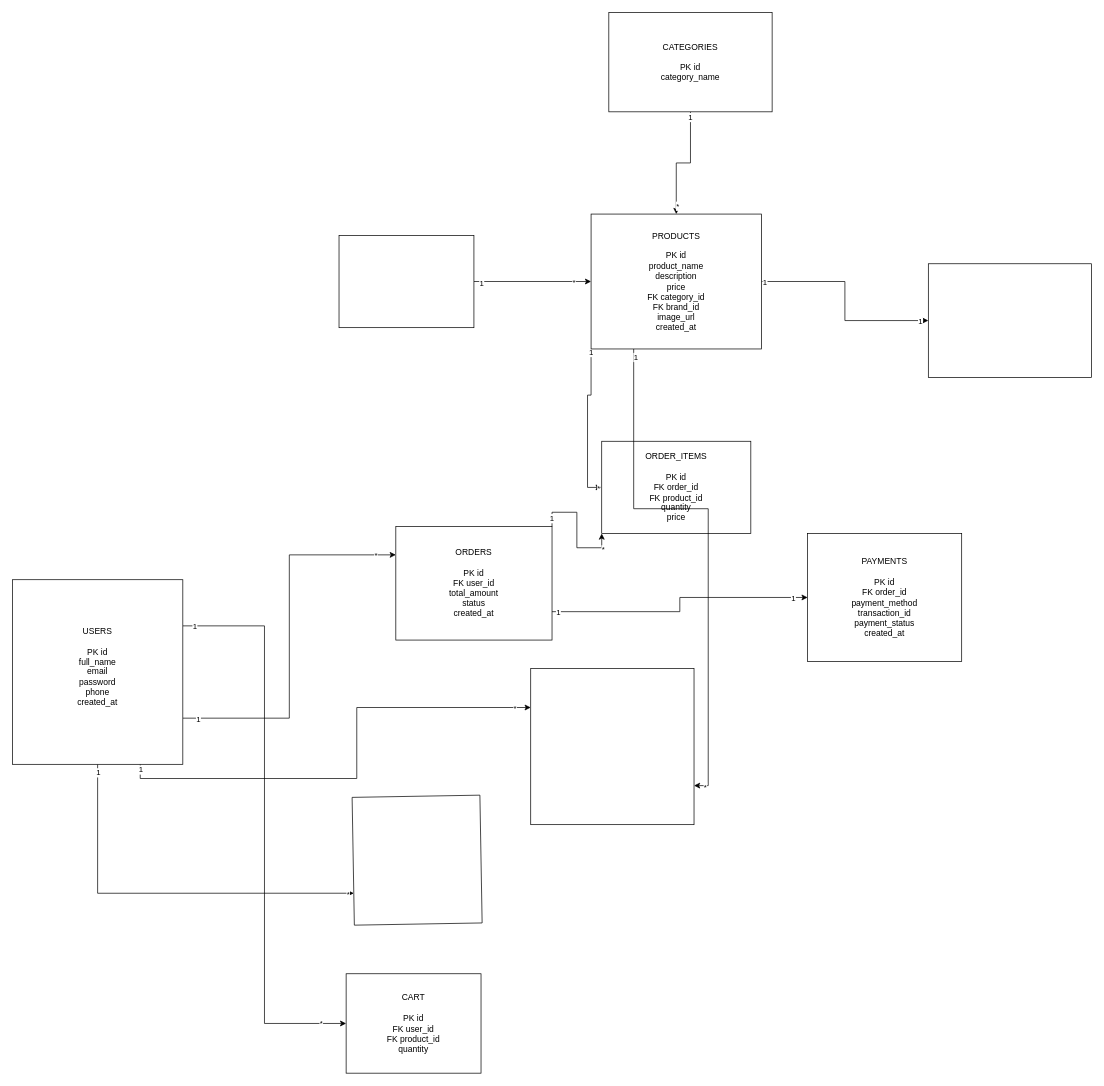
This 1104x1086 diagram has some shape labels left out. The centre of each missing label's shape, as x and y in pixels:
"ADDRESSES PK id FK user_id address_line city state country postal_code" belongs at point 416,859.
"BRANDS PK id brand_name" belongs at point 406,281.
"INVENTORY PK id FK product_id stock_quantity" belongs at point 1010,320.
"REVIEWS PK id FK user_id FK product_id rating comment created_at" belongs at point 612,746.
